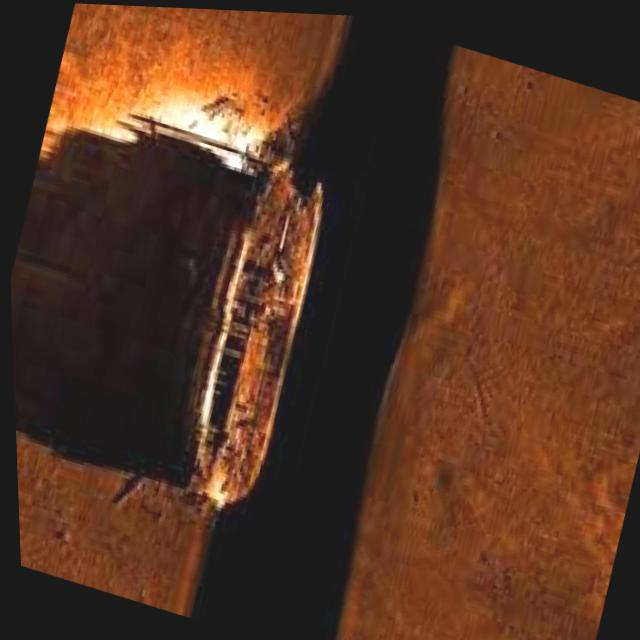shipwreck: (152, 134, 345, 526)
